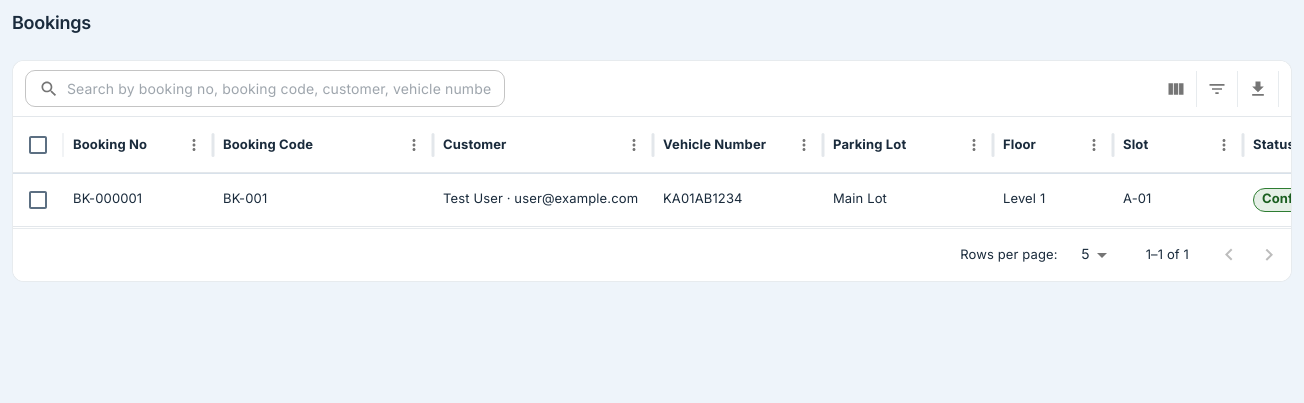
BookingsPage › shows empty search state when no bookings match
Check: the text "BK-001" is shown, box 223,191 -> 267,207
Type "ZZZNOMATCH" into the field with placeholder "search by booking no, booking code, customer, vehicle number, parking lot, floor, slot, or status" at {"x": 286, "y": 89}, box 67,70 -> 505,107
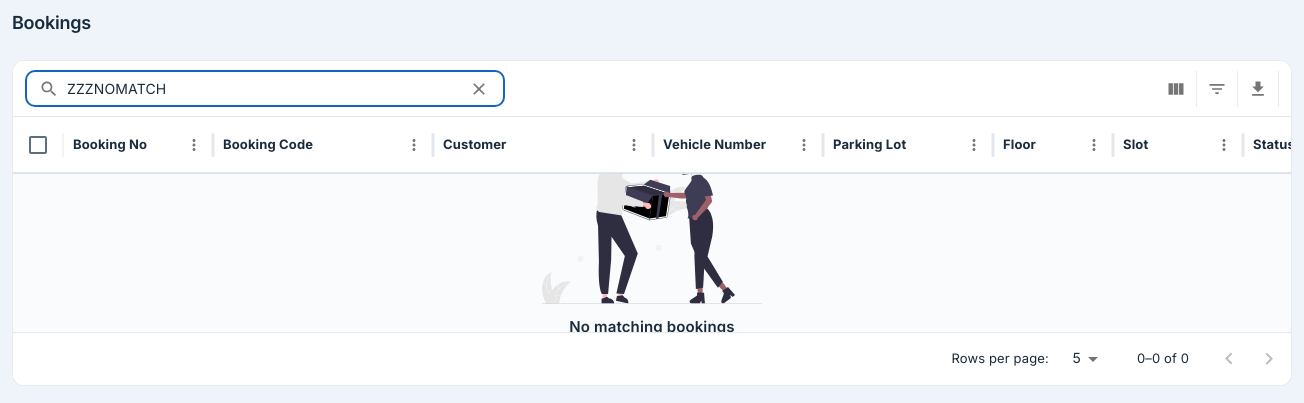
Check: the heading "No matching bookings" is shown, box 569,316 -> 735,332
Check: the text "BK-001" is gone
